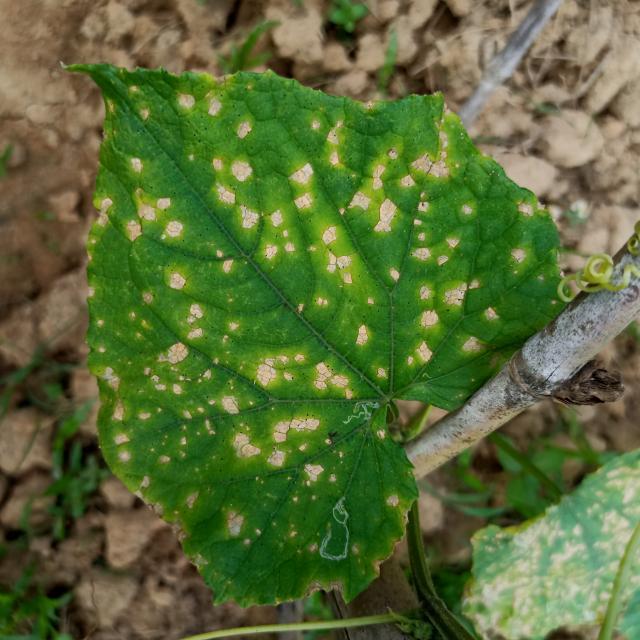disease_cucumber: (91, 90, 517, 568)
